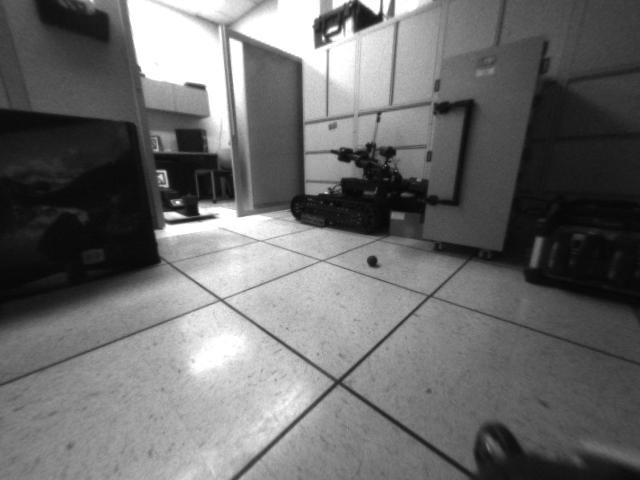dogtoy: (364, 250, 384, 272)
